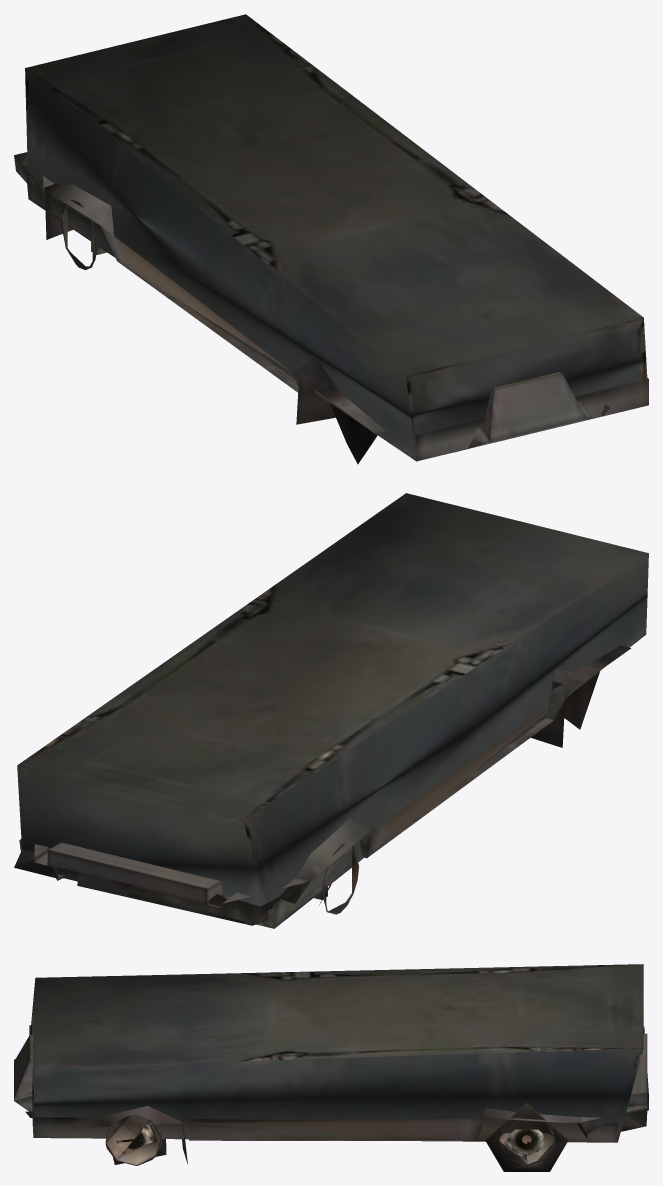
File: voiture_bachee_lod2.glb
3 renders of one model, top to bottom at view 1: azimuth 30°, elevation 25°; view 2: azimuth 150°, elevation 25°; view 3: azimuth 270°, elevation 25°, orthographic. The views are drawn at different scales.
Parts seen in each view (by area): view 1: covered_car_wheel_02; view 2: covered_car_wheel_02; view 3: covered_car_wheel_02, covered_car_wheel_01.
Boxes of the visible parts, left/top/right/bottom form: covered_car_wheel_02: left=14, top=14, right=648, bottom=464; covered_car_wheel_02: left=14, top=493, right=648, bottom=928; covered_car_wheel_02: left=14, top=964, right=648, bottom=1164; covered_car_wheel_01: left=105, top=1103, right=568, bottom=1171.
Bounding box in the file's own units: 1.62 × 0.8737 × 4.17.
Materials: 1 (1 with a texture image).
